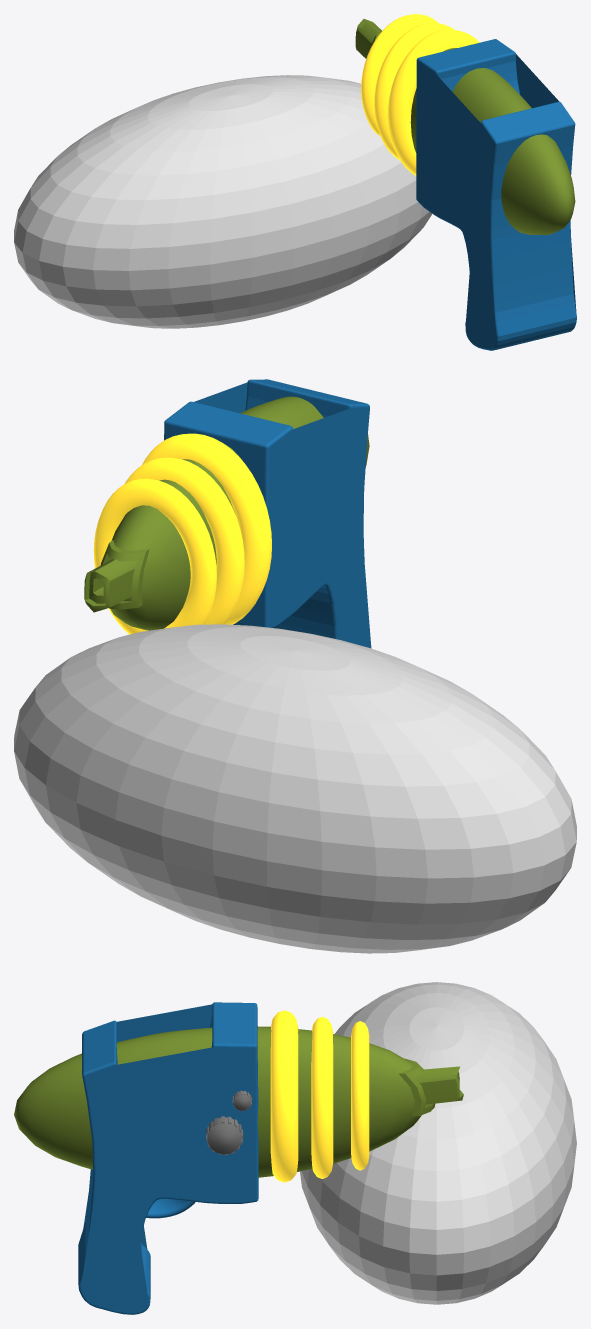
File: pistolita.fbx
3 views of the same model, one above another, from view 1: azimuth 30°, elevation 25°; view 2: azimuth 150°, elevation 25°; view 3: azimuth 270°, elevation 25° (orthographic). The views are drawn at different scales.
Visible parts, largest first — view 1: Sphere, Vert, Sphere.001, Torus, Torus.001, Torus.002; view 2: Sphere, Vert, Sphere.001, Torus.002, Torus, Torus.001; view 3: Sphere, Vert, Sphere.001, Torus, Torus.001, Torus.002, Cylinder.002, Torus.003.
Boxes of the visible parts, x1,y1,x2,y2 form: Sphere: (14, 75, 431, 328); Vert: (416, 39, 576, 350); Sphere.001: (355, 19, 575, 234); Torus: (387, 30, 479, 175); Torus.001: (374, 23, 454, 160); Torus.002: (361, 14, 438, 135); Sphere: (14, 624, 576, 953); Vert: (164, 379, 371, 648); Sphere.001: (84, 396, 369, 630); Torus.002: (93, 478, 216, 634); Torus: (142, 433, 271, 624); Torus.001: (124, 457, 244, 624); Sphere: (300, 982, 576, 1304); Vert: (78, 1002, 258, 1314); Sphere.001: (14, 1026, 463, 1177); Torus: (270, 1010, 298, 1182); Torus.001: (311, 1016, 333, 1178); Torus.002: (351, 1021, 369, 1170); Cylinder.002: (206, 1116, 243, 1155); Torus.003: (146, 1198, 195, 1218).
Size of the model in its own units: 525 by 353 by 560.
